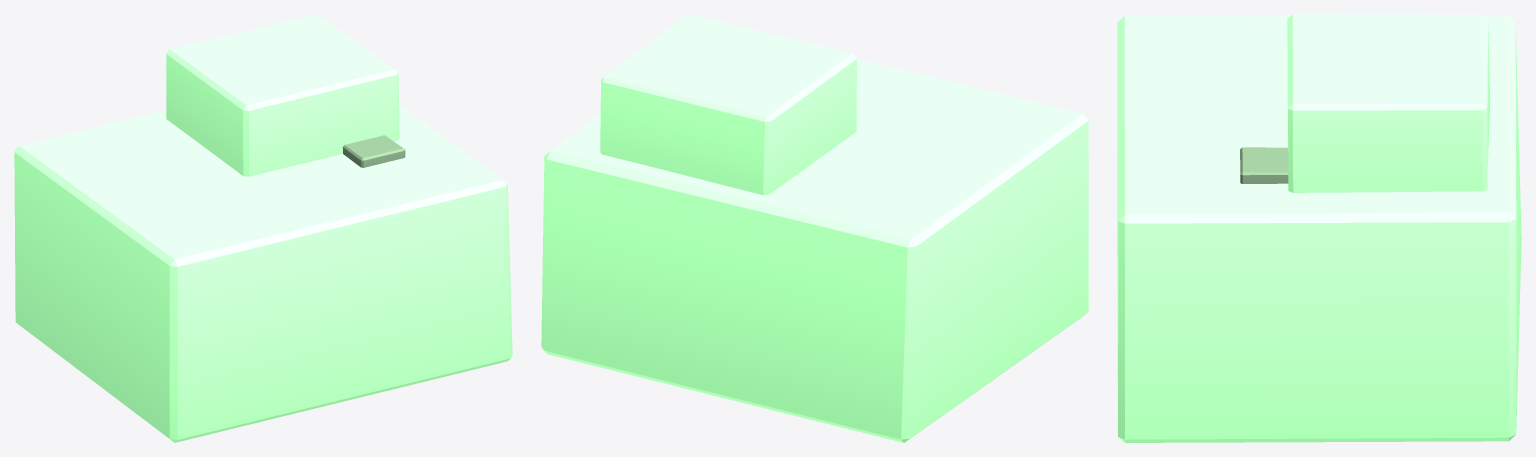
Rendered from slime.glb.
The picture shows the model from 3 angles, left to right: view 1: azimuth 30°, elevation 25°; view 2: azimuth 150°, elevation 25°; view 3: azimuth 270°, elevation 25°; orthographic projection. The views are drawn at different scales.
Visible parts, largest first — view 1: Body, Blob, Bubble; view 2: Body, Blob; view 3: Body, Blob, Bubble.
Boxes of the visible parts, bbox=[...] form: Body: bbox=[14, 105, 512, 442]; Blob: bbox=[166, 14, 399, 176]; Bubble: bbox=[342, 135, 405, 167]; Body: bbox=[541, 59, 1088, 442]; Blob: bbox=[600, 14, 856, 195]; Body: bbox=[1117, 16, 1521, 442]; Blob: bbox=[1287, 14, 1490, 192]; Bubble: bbox=[1240, 147, 1288, 183].
Size of the model in its own units: 0.8216 by 0.5814 by 0.6791.
